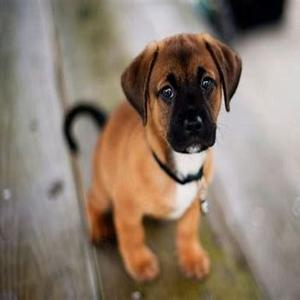dog: (73, 33, 238, 268)
